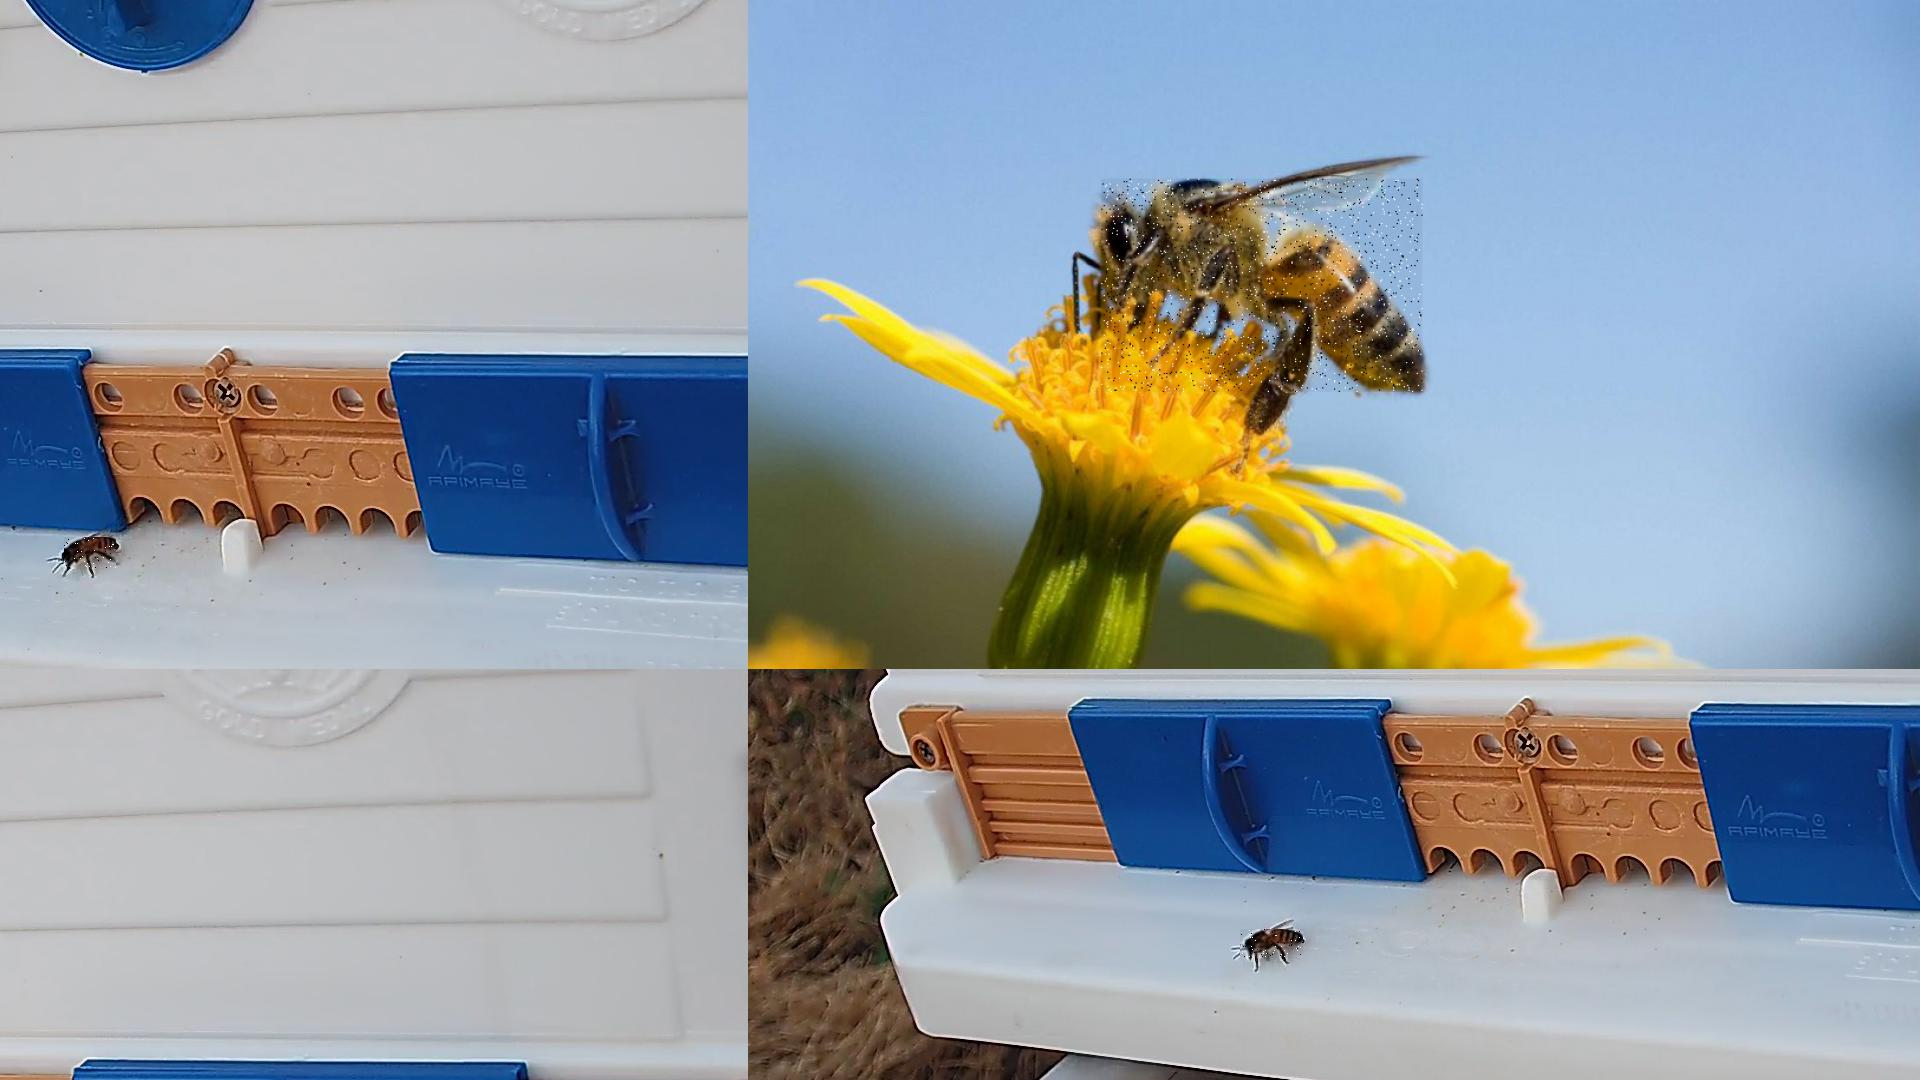bee: (1101, 179, 1424, 393), (1240, 930, 1304, 959), (65, 538, 117, 570)
